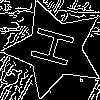H: (29, 24, 85, 72)
